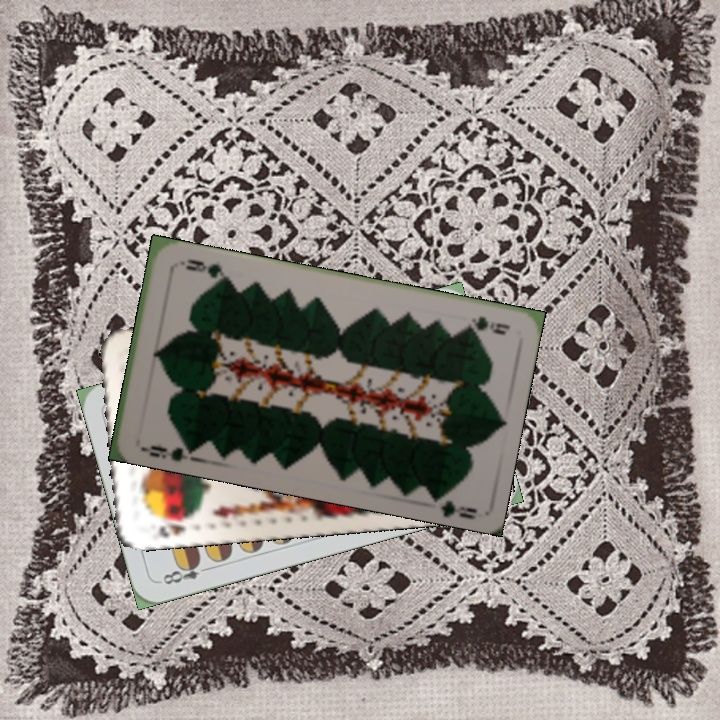E8: (159, 556, 214, 588)
G9: (137, 437, 196, 464), (460, 312, 513, 338)
SK: (155, 511, 197, 541)
